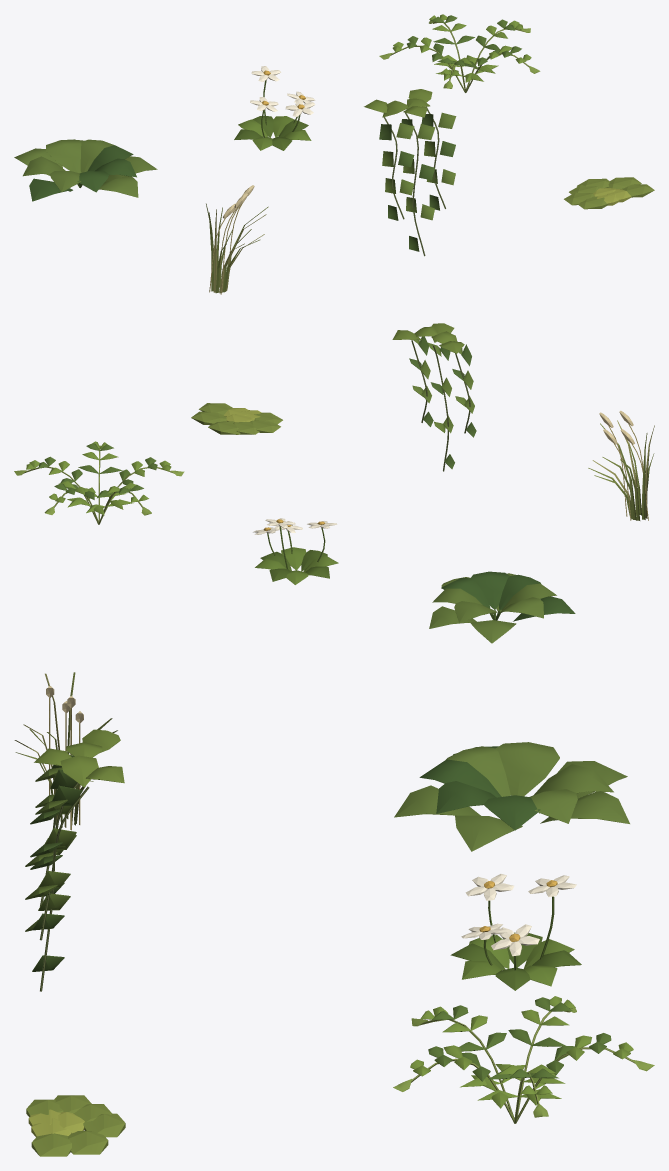
The model's file is courtyard-plant-kit.glb.
3 renders of one model, top to bottom at view 1: azimuth 30°, elevation 25°; view 2: azimuth 150°, elevation 25°; view 3: azimuth 270°, elevation 25°, orthographic. The views are drawn at different scales.
Parts seen in each view (by area): view 1: courtyard-foliage (×5), courtyard-moss, courtyard-white-petals, courtyard-seed-heads; view 2: courtyard-foliage (×5), courtyard-moss, courtyard-seed-heads, courtyard-white-petals; view 3: courtyard-foliage (×5), courtyard-moss, courtyard-white-petals, courtyard-seed-heads.
Boxes of the visible parts, box(x1,y1,x2,y2) form: courtyard-foliage (×5): box(14, 14, 540, 293); courtyard-moss: box(564, 177, 654, 209); courtyard-white-petals: box(250, 66, 315, 116); courtyard-seed-heads: box(209, 185, 254, 294); courtyard-foliage (×5): box(14, 323, 654, 643); courtyard-moss: box(191, 403, 282, 434); courtyard-seed-heads: box(599, 410, 648, 520); courtyard-white-petals: box(253, 518, 337, 534); courtyard-foliage (×5): box(14, 672, 654, 1123); courtyard-moss: box(26, 1095, 125, 1156); courtyard-white-petals: box(461, 874, 576, 956); courtyard-seed-heads: box(46, 686, 83, 830).
Bounding box in the file's own units: 6.51 × 1.75 × 4.28.
